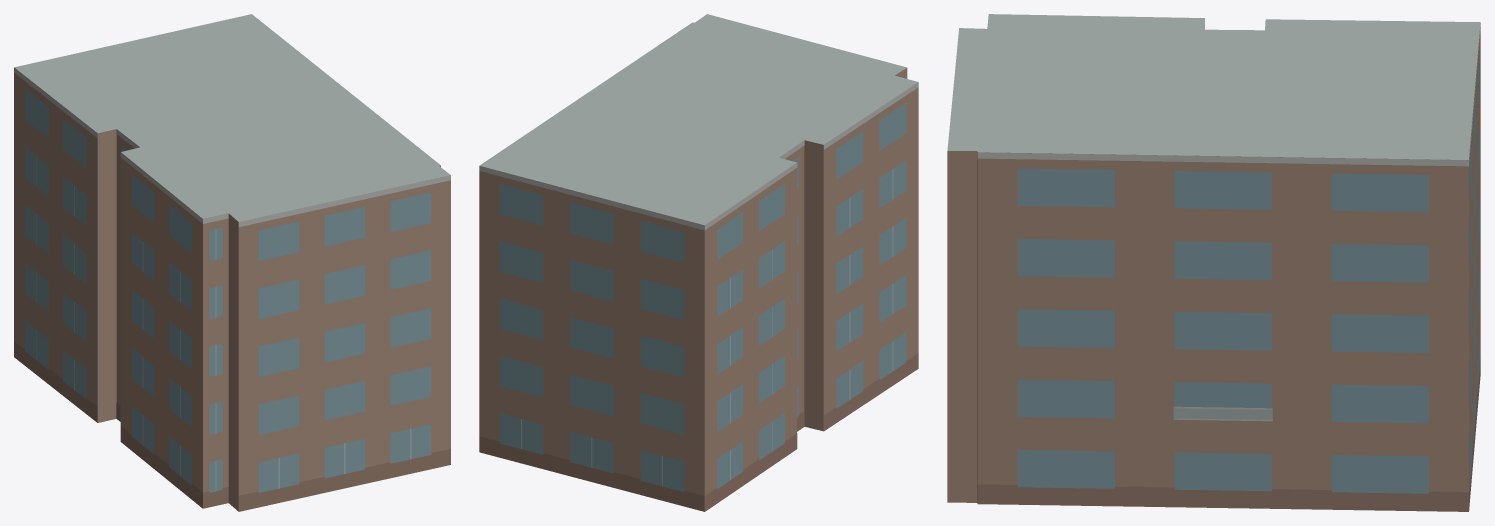
Rendered from survey-upis-32664683.glb.
3 renders of one model, left to right at view 1: azimuth 30°, elevation 25°; view 2: azimuth 150°, elevation 25°; view 3: azimuth 270°, elevation 25°, orthographic. The views are drawn at different scales.
Parts seen in each view (by area): view 1: survey-upis-32664683.tmp; view 2: survey-upis-32664683.tmp; view 3: survey-upis-32664683.tmp.
Boxes of the visible parts, bbox=[...] form: survey-upis-32664683.tmp: bbox=[14, 14, 450, 511]; survey-upis-32664683.tmp: bbox=[479, 14, 918, 511]; survey-upis-32664683.tmp: bbox=[947, 14, 1480, 511].
Bounding box in the file's own units: 12.16 × 13.65 × 18.76.
